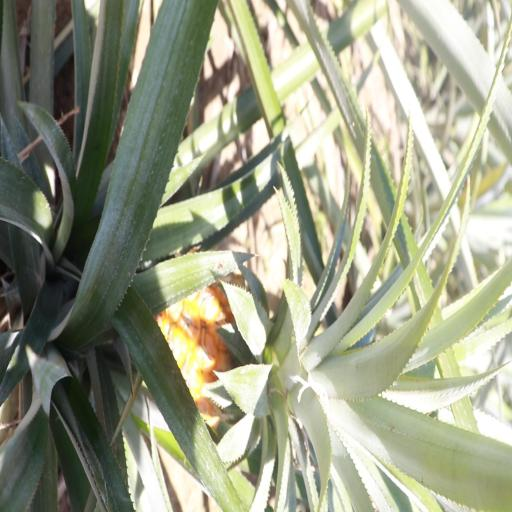Pineapple - v8 v1: (158, 251, 387, 454)
